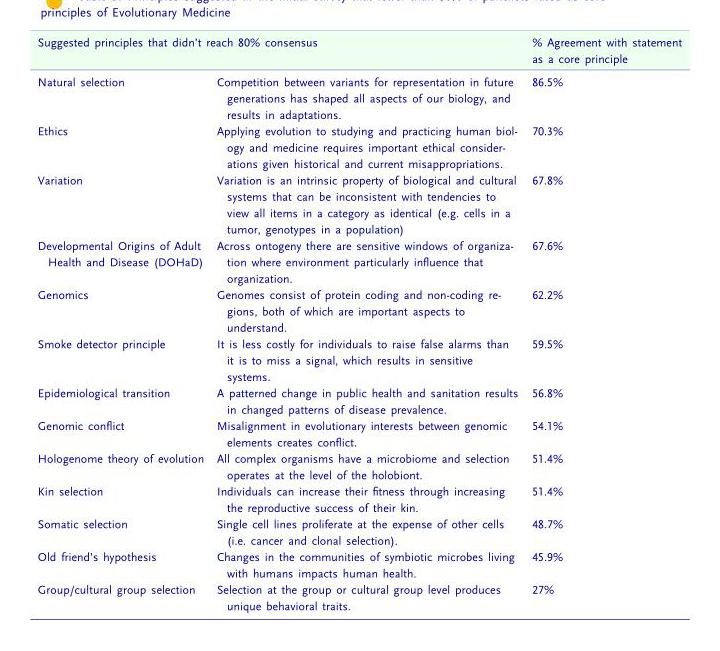table: (36, 36, 681, 612)
table column: (209, 36, 524, 612), (36, 36, 209, 612), (524, 36, 681, 612)
table column header: (36, 36, 681, 123)
table row: (36, 172, 681, 237), (36, 70, 681, 123), (36, 286, 681, 336), (36, 123, 681, 172), (36, 237, 681, 286), (36, 336, 681, 385), (36, 36, 681, 70), (36, 417, 681, 450), (36, 450, 681, 483), (36, 483, 681, 516), (36, 548, 681, 581), (36, 385, 681, 417), (36, 516, 681, 548), (36, 581, 681, 612)
table spanning cell: (36, 36, 524, 70), (524, 36, 681, 123)
